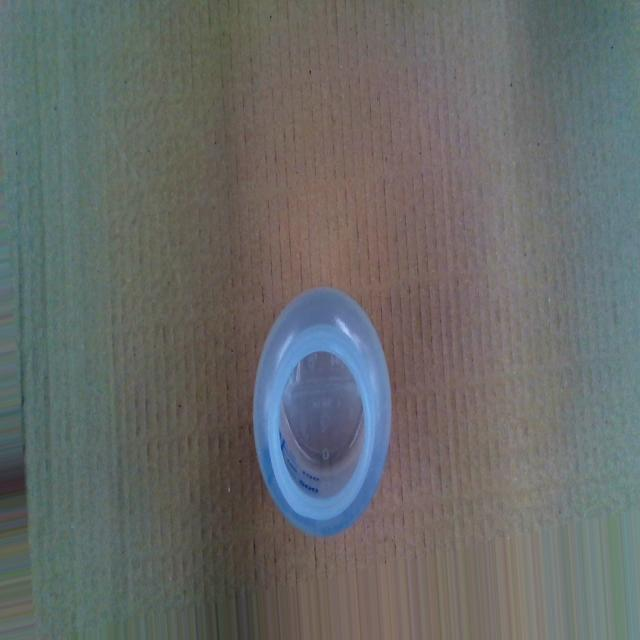bottle: (250, 282, 396, 544)
